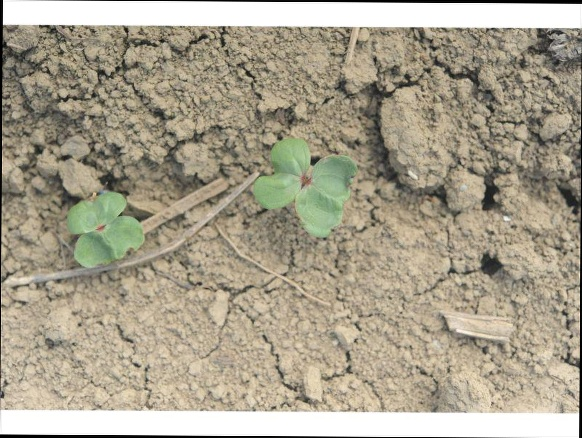cotton: (256, 138, 358, 239), (66, 189, 143, 270)
